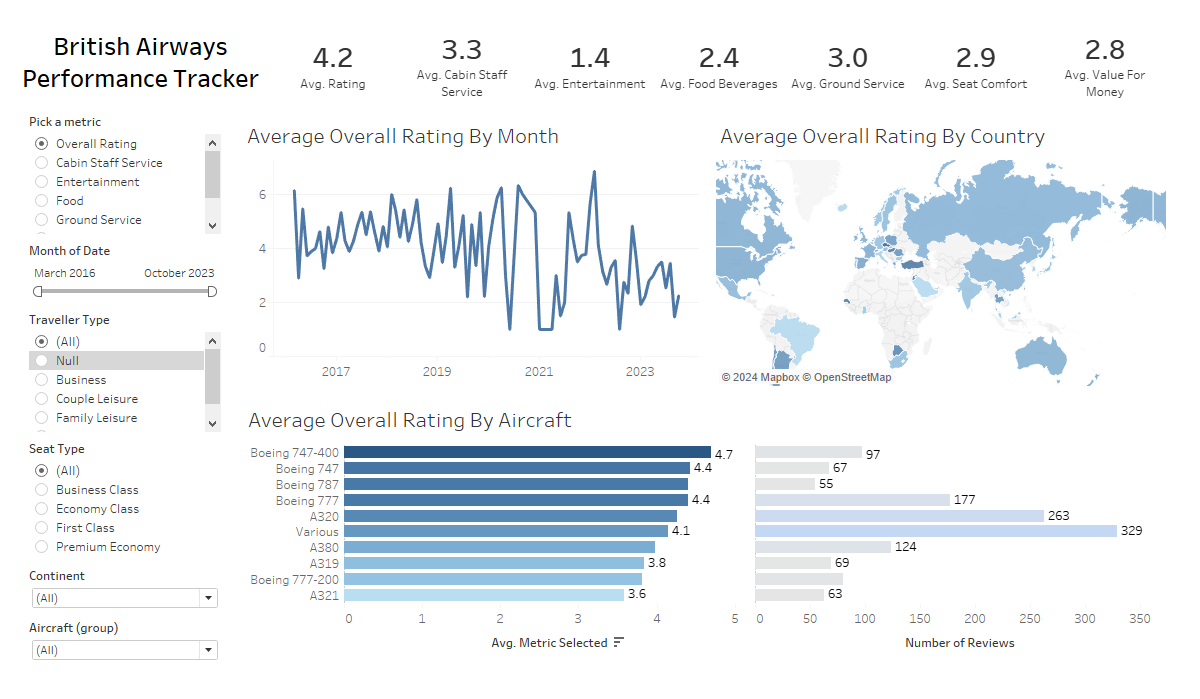

The page's visual inventory and layout, read from the dashboard file:
{"tool":"tableau","page":{"name":"Dashboard 1","canvas":[1200,700],"ordinal":0},"visuals":[{"type":"text","box":[0,0,281,125]},{"type":"worksheet","title":"Summary","mark":"Automatic","box":[269,16,900,100]},{"type":"parameter","param":"[Parameters].[Parameter 1]","box":[25,110,200,129]},{"type":"worksheet","title":"Line Chart by Month","mark":"Automatic","rows":["Calculation_1306043898539995136"],"cols":["date"],"box":[243,118,456,269]},{"type":"worksheet","title":"Map","mark":"Multipolygon","box":[716,118,450,269]},{"type":"filter","title":"Map","param":"[federated.0jc67cj1kd8rjj17c7o1m1it8pdk].[tmn:date:qk]","box":[25,239,200,69]},{"type":"filter","title":"Map","param":"[federated.0jc67cj1kd8rjj17c7o1m1it8pdk].[none:traveller_type:nk]","box":[25,308,200,129]},{"type":"worksheet","title":"By Aircraft","mark":"Automatic","cols":["Calculation_1306043898539995136","ba_reviews.csv_7A10F23BDC0A4516AEA894DAD24BAF33"],"box":[244,402,921,257]},{"type":"filter","title":"Map","param":"[federated.0jc67cj1kd8rjj17c7o1m1it8pdk].[none:seat_type:nk]","box":[25,437,200,127]},{"type":"filter","title":"Map","param":"[federated.0jc67cj1kd8rjj17c7o1m1it8pdk].[none:Continent:nk]","box":[25,564,200,52]},{"type":"filter","title":"Map","param":"[federated.0jc67cj1kd8rjj17c7o1m1it8pdk].[Aircraft (group)]","box":[25,616,200,52]}]}

Visuals, with their boxes in screenshot pixels (x1, y1, x2, y2), scaled from the page's 1200x700 canvas onto the 1200x699 screenshot:
text: l=0, t=0, r=281, b=125
"Summary" worksheet: l=269, t=16, r=1169, b=116
parameter: l=25, t=110, r=225, b=239
"Line Chart by Month" worksheet: l=243, t=118, r=699, b=386
"Map" worksheet (Multipolygon marks): l=716, t=118, r=1166, b=386
"Map" filter: l=25, t=239, r=225, b=308
"Map" filter: l=25, t=308, r=225, b=436
"By Aircraft" worksheet: l=244, t=401, r=1165, b=658
"Map" filter: l=25, t=436, r=225, b=563
"Map" filter: l=25, t=563, r=225, b=615
"Map" filter: l=25, t=615, r=225, b=667
